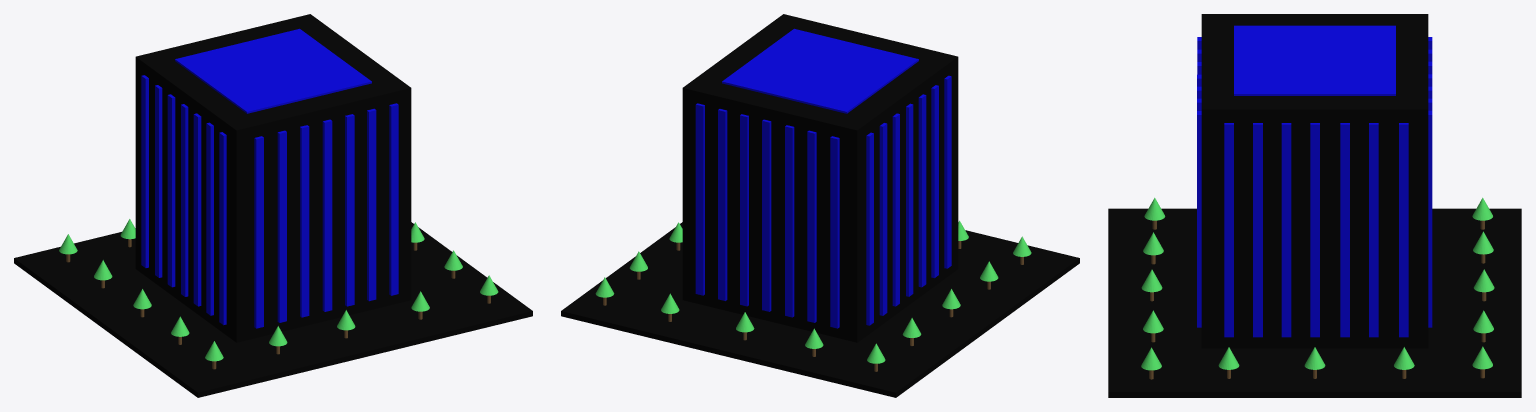
File: datacenter_blue.glb
3 renders of one model, left to right at view 1: azimuth 30°, elevation 25°; view 2: azimuth 150°, elevation 25°; view 3: azimuth 270°, elevation 25°, orthographic. The views are drawn at different scales.
Parts seen in each view (by area): view 1: stick.003; view 2: stick.003; view 3: stick.003.
Boxes of the visible parts, x1,y1,x2,y2 form: stick.003: (14, 14, 532, 397); stick.003: (561, 14, 1079, 397); stick.003: (1108, 14, 1521, 397).
Bounding box in the file's own units: 26.83 × 16.79 × 25.52.
